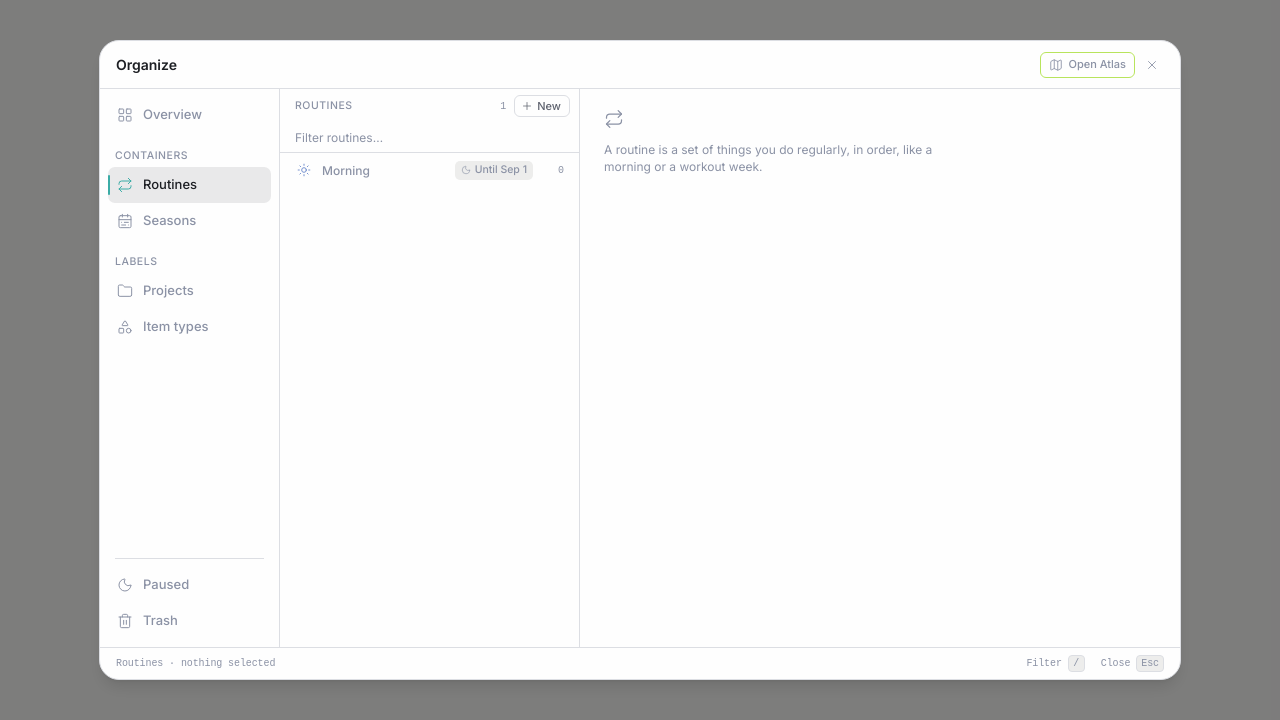
Test: the routines section › shows the resume field and its note once the routine is paused
Click the button with test id "routine-row" at {"x": 346, "y": 170}, box top-left (288, 153), bottom-right (571, 187)
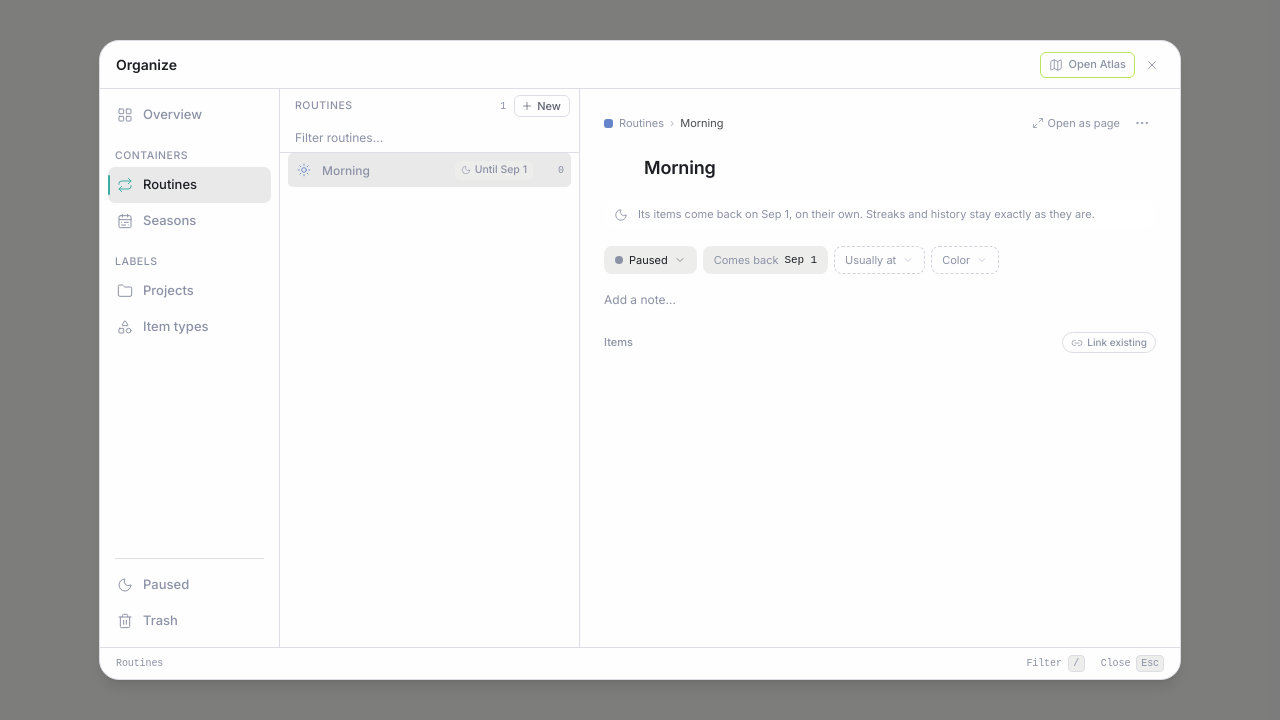
Expected: the button with test id "routine-resume" shows "Sep 1", top-left (703, 246), bottom-right (828, 274)
Expected: the element with test id "routine-paused-note" shows "Its items come back on Sep 1, on their own.", top-left (638, 207), bottom-right (1095, 221)
Expected: the element with test id "routine-paused-note" shows "Streaks and history stay exactly as they are", top-left (638, 207), bottom-right (1095, 221)
